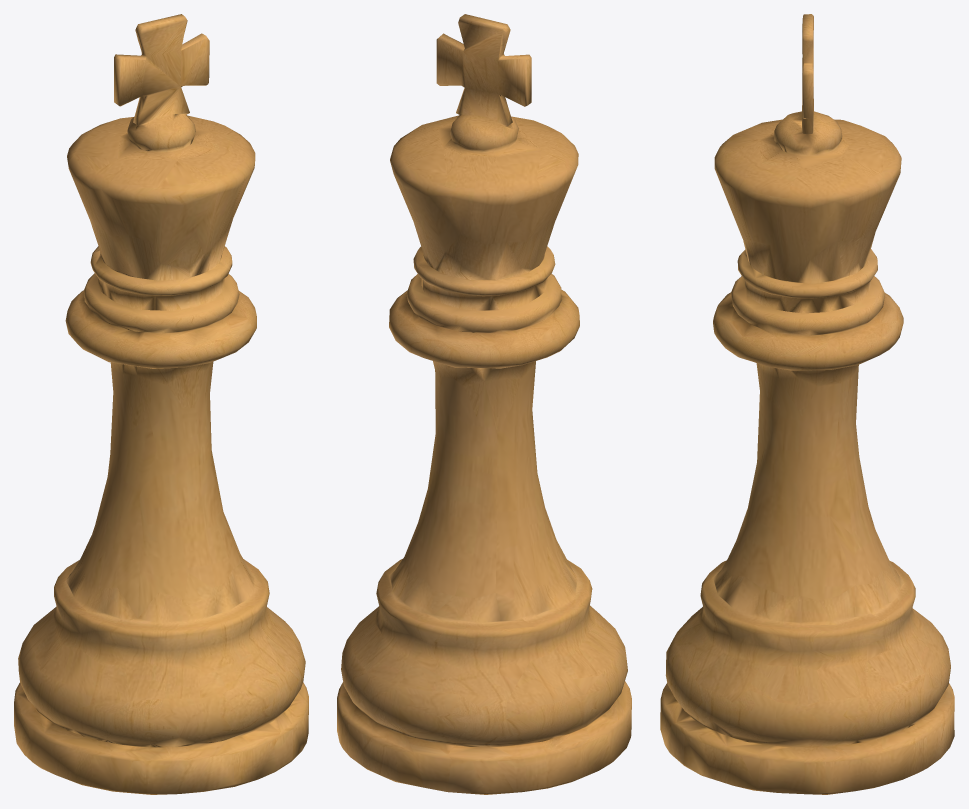
File: rey.obj
3 views of the same model, side by side, from view 1: azimuth 30°, elevation 25°; view 2: azimuth 150°, elevation 25°; view 3: azimuth 270°, elevation 25° (orthographic).
Parts seen in each view (by area): view 1: Meshy_AI_staunton_chess_king_3_0926011854_image-to-3d-texture; view 2: Meshy_AI_staunton_chess_king_3_0926011854_image-to-3d-texture; view 3: Meshy_AI_staunton_chess_king_3_0926011854_image-to-3d-texture.
Boxes of the visible parts, <box> form: Meshy_AI_staunton_chess_king_3_0926011854_image-to-3d-texture: <box>14,14,308,794</box>; Meshy_AI_staunton_chess_king_3_0926011854_image-to-3d-texture: <box>337,14,631,794</box>; Meshy_AI_staunton_chess_king_3_0926011854_image-to-3d-texture: <box>660,14,954,794</box>.
Bounding box in the file's own units: 0.0451 × 0.1199 × 0.045.
1 material, 1 textured.
